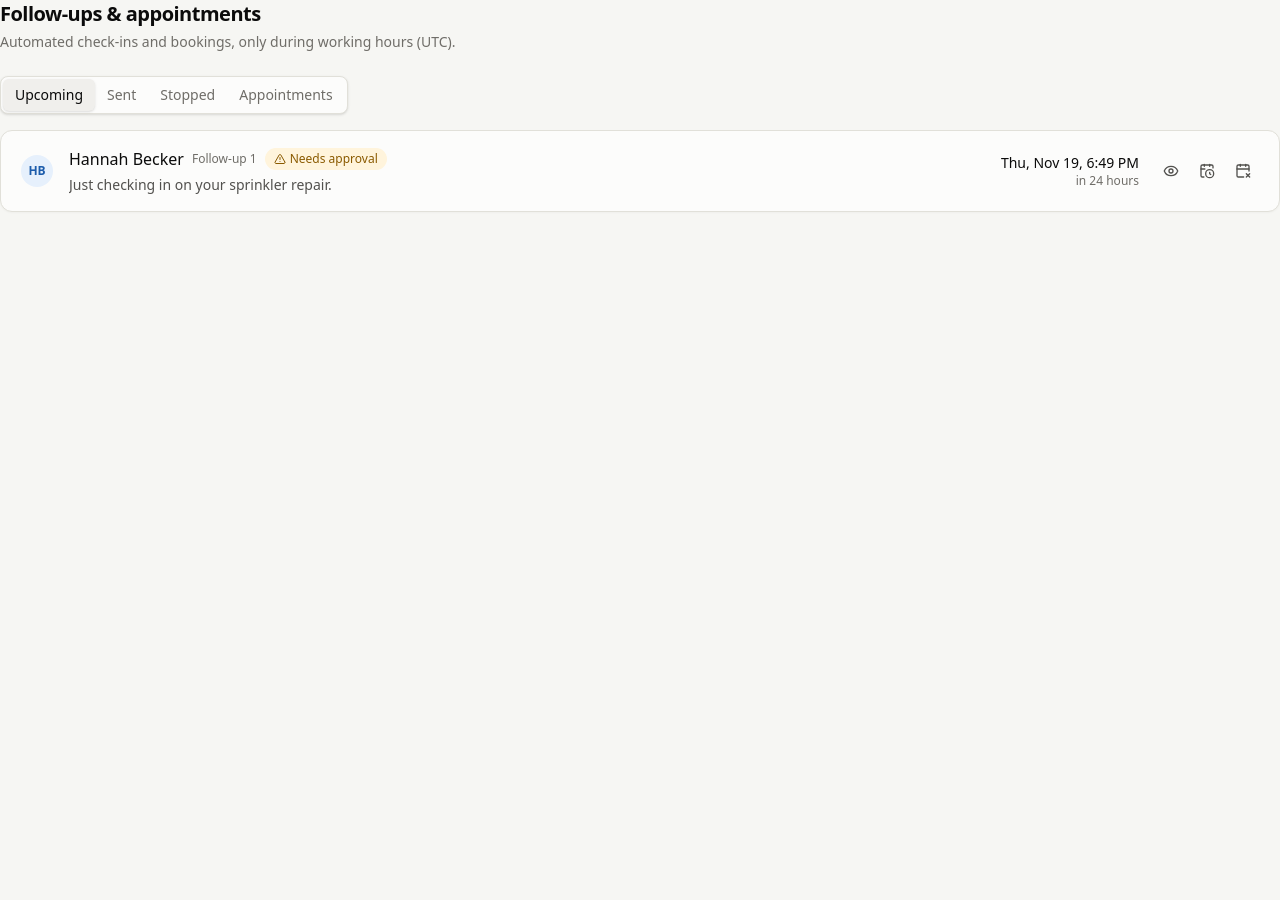
Test: Follow-ups › reschedules with a preset delay inside working hours
Click the button named "Reschedule follow-up to Hannah Becker". click: point(1207, 171)
box: x1=1191 y1=155 x2=1223 y2=187
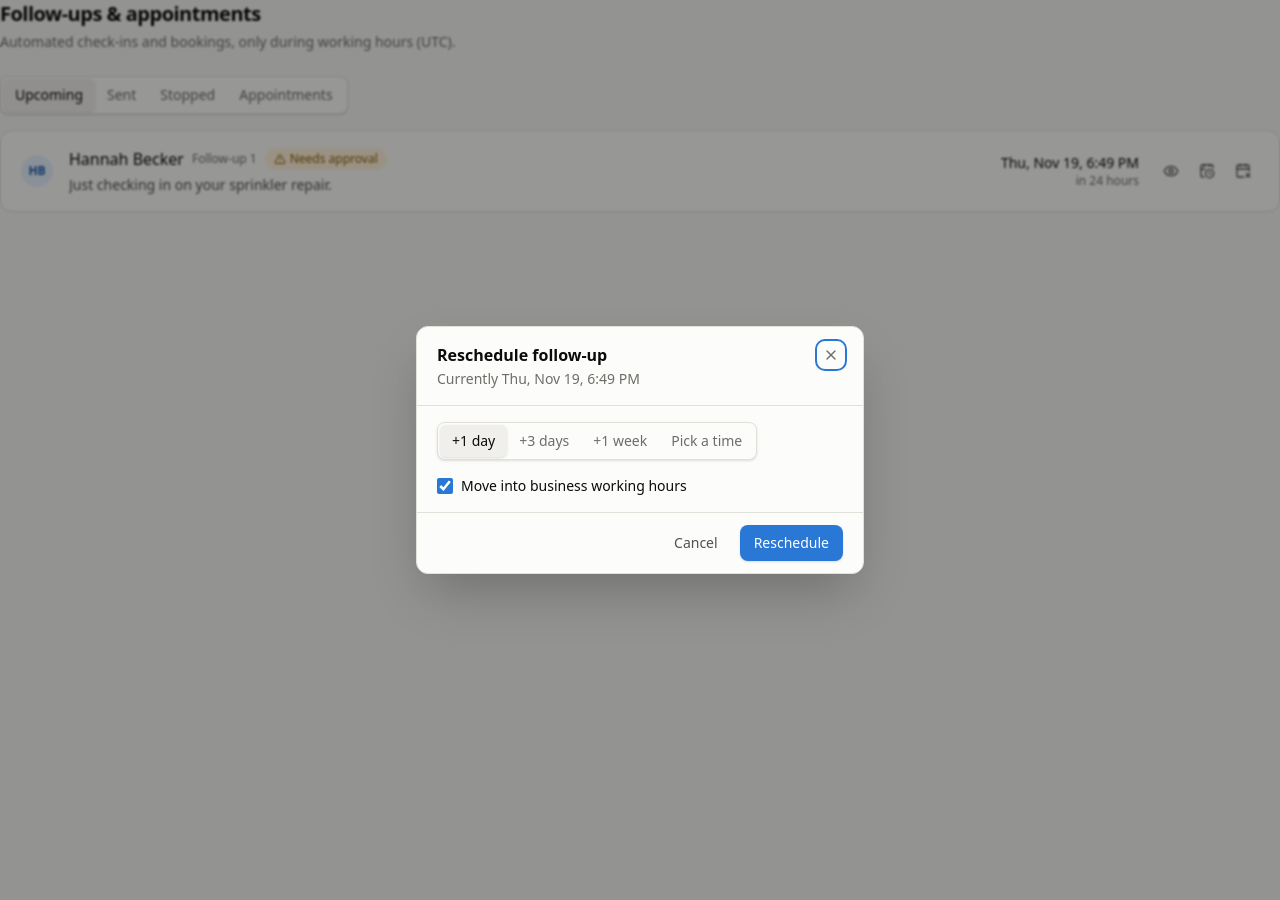
Click the radio button labelled "+3 days". click: point(544, 441)
box: x1=507 y1=425 x2=581 y2=457
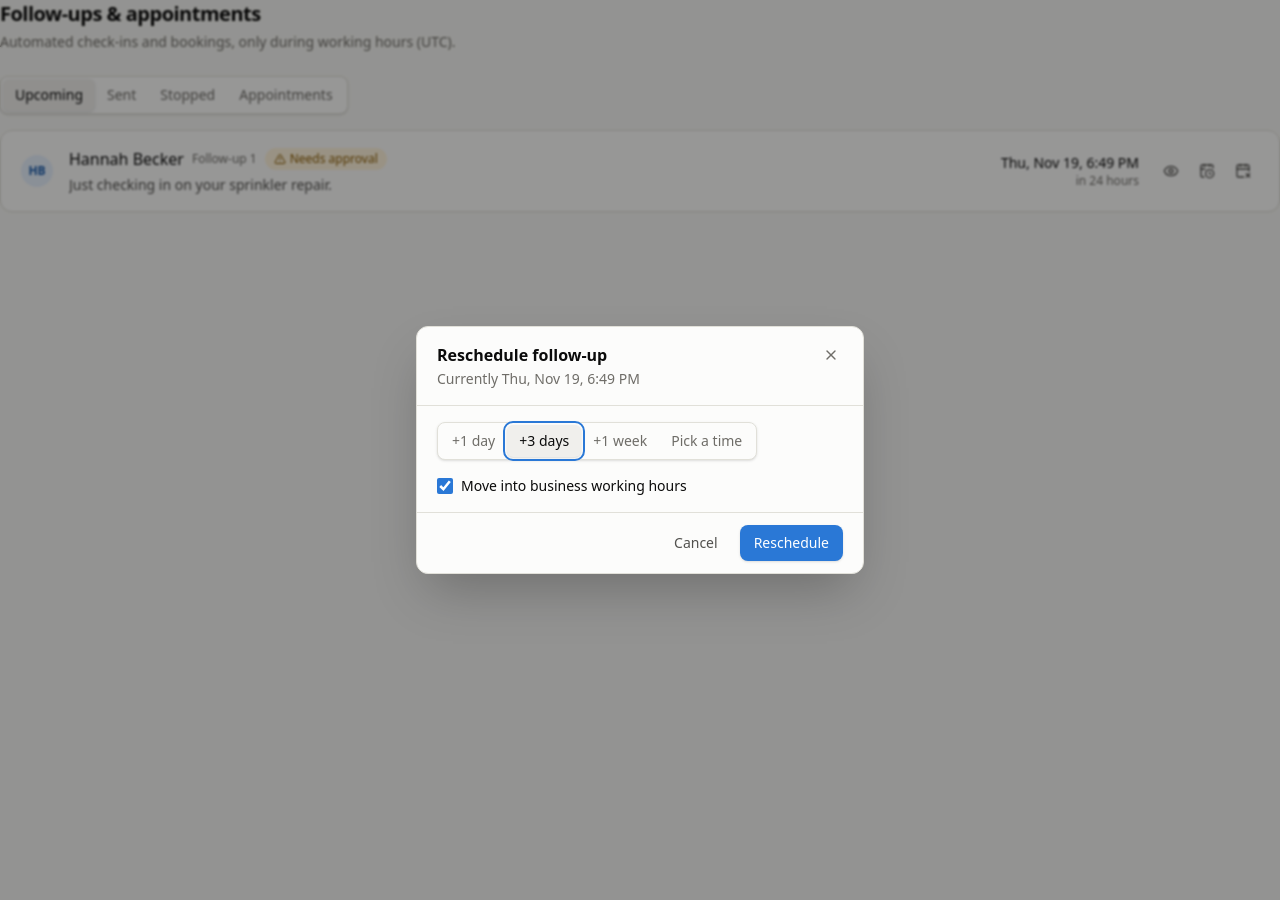
Click the button "Reschedule". click: point(791, 543)
box: x1=740 y1=525 x2=843 y2=561
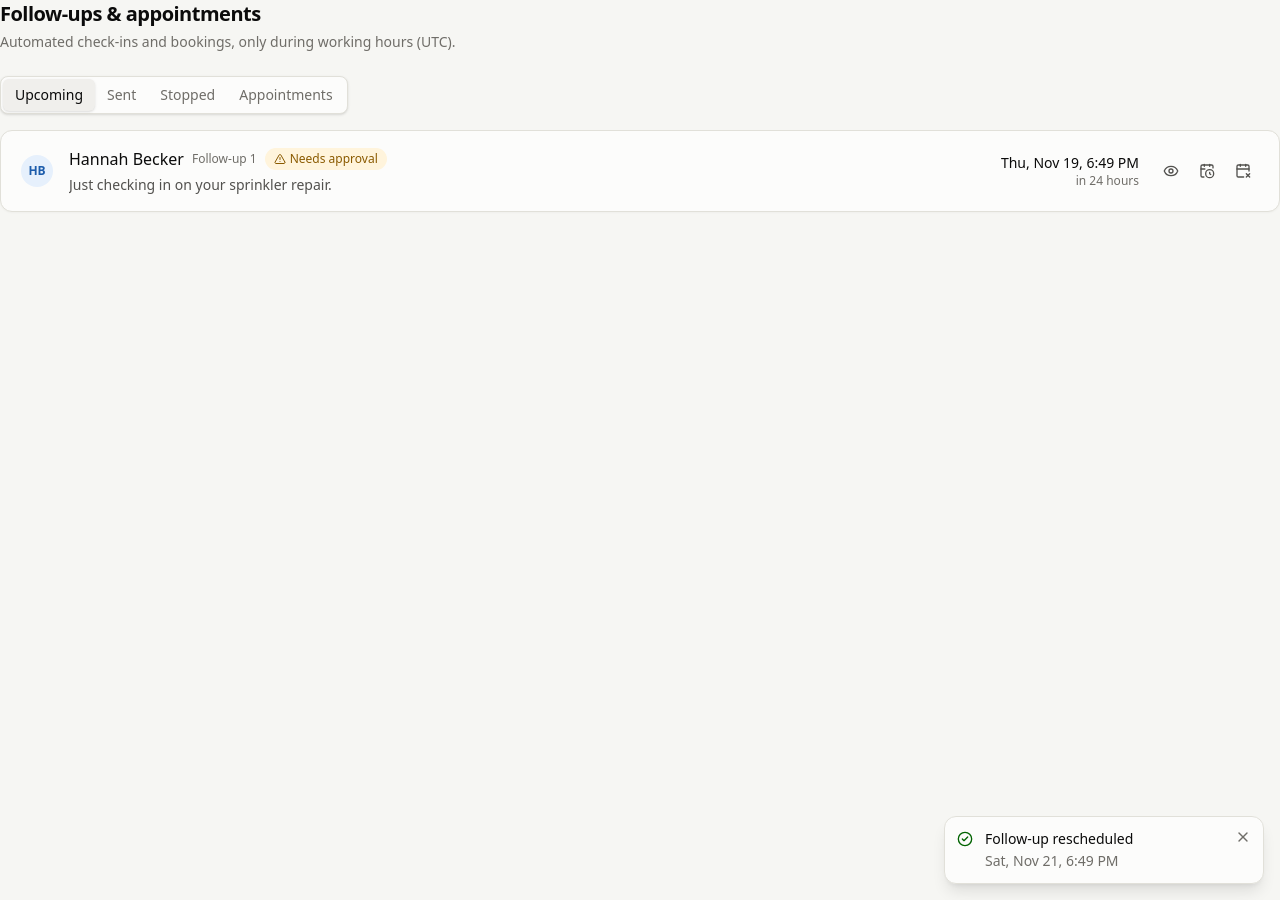
Expected: the text "Follow-up rescheduled" is shown, x1=985 y1=829 x2=1133 y2=848
